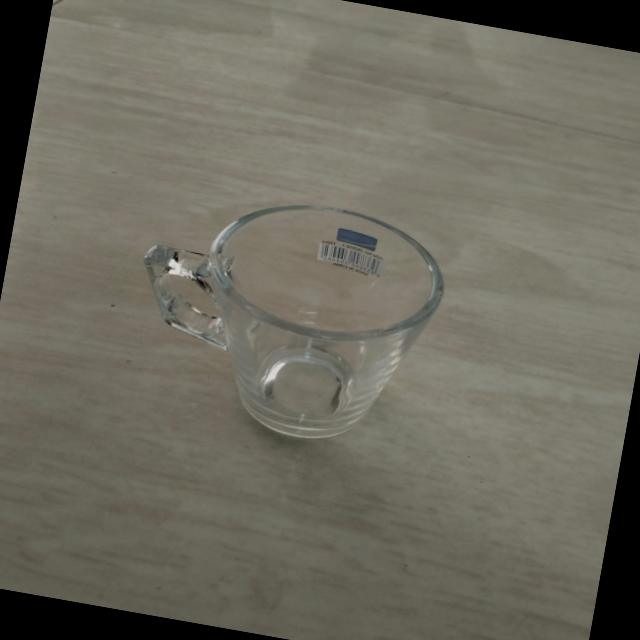glass-VX4N: (117, 173, 451, 460)
